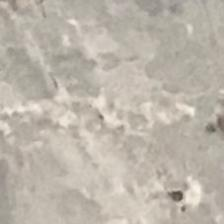Crack: (1, 85, 224, 206)
